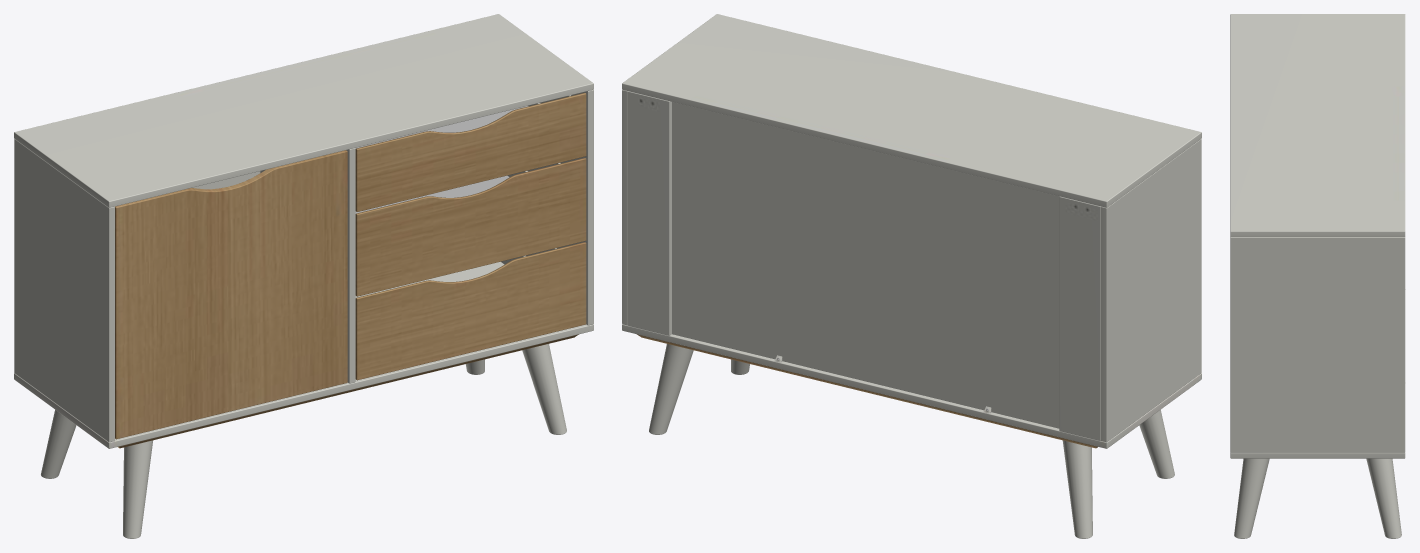
Rendered from tv-stand-midcentury.glb.
The picture shows the model from 3 angles, left to right: view 1: azimuth 30°, elevation 25°; view 2: azimuth 150°, elevation 25°; view 3: azimuth 270°, elevation 25°; orthographic projection. The views are drawn at different scales.
Parts seen in each view (by area): view 1: RootNode; view 2: RootNode; view 3: RootNode.
Part boxes in pixels (<box>): RootNode: <box>14,14,593,538</box>; RootNode: <box>622,14,1201,538</box>; RootNode: <box>1230,14,1405,538</box>.
Size of the model in its own units: 1.19 by 0.813 by 0.406.
1 material, 1 textured.
